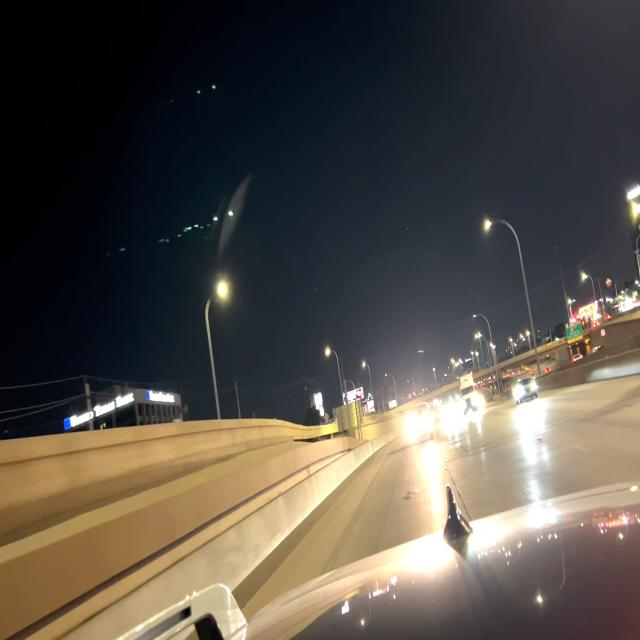back-of-sign: (335, 397, 363, 432)
